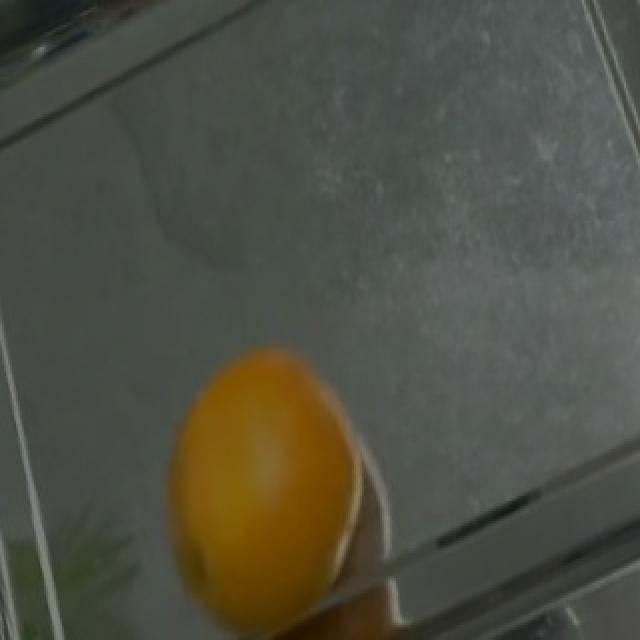Fruit: (150, 322, 384, 640)
